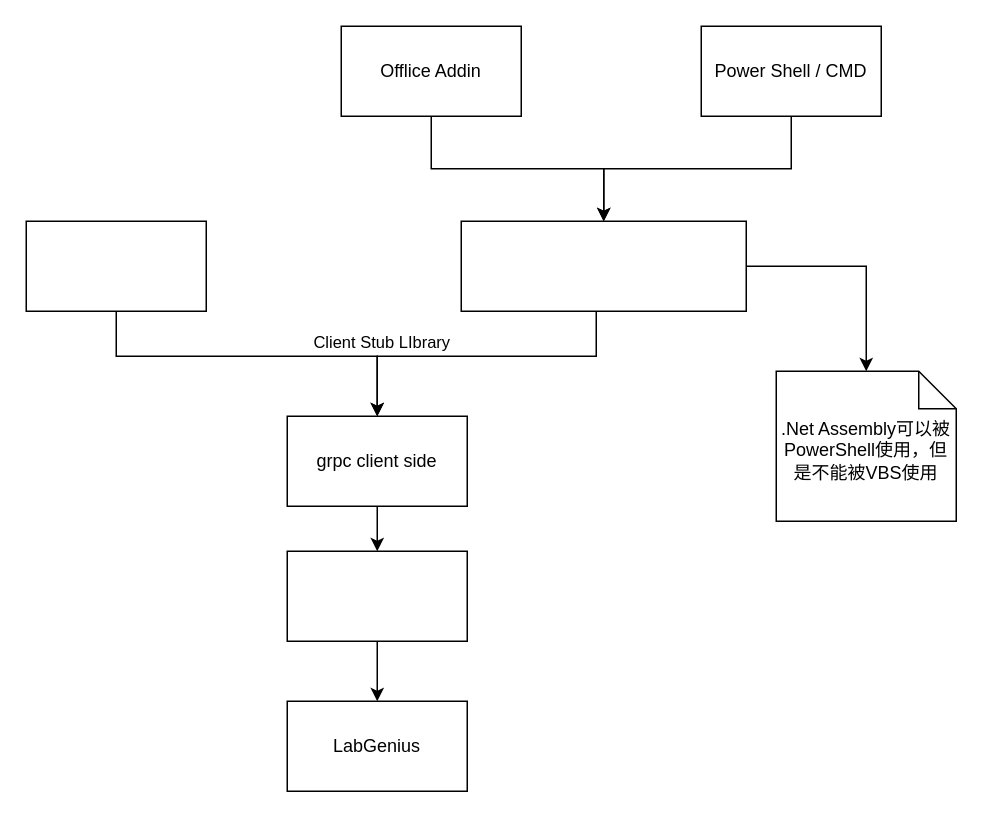
Some shapes in this 983 by 818 pixel diagram are drawn without their labels. The centre of each missing label's shape, as x and y in pixels:
COM Component: the point at 603,265
grpc server side: the point at 376,595
Third party apps: the point at 115,265
